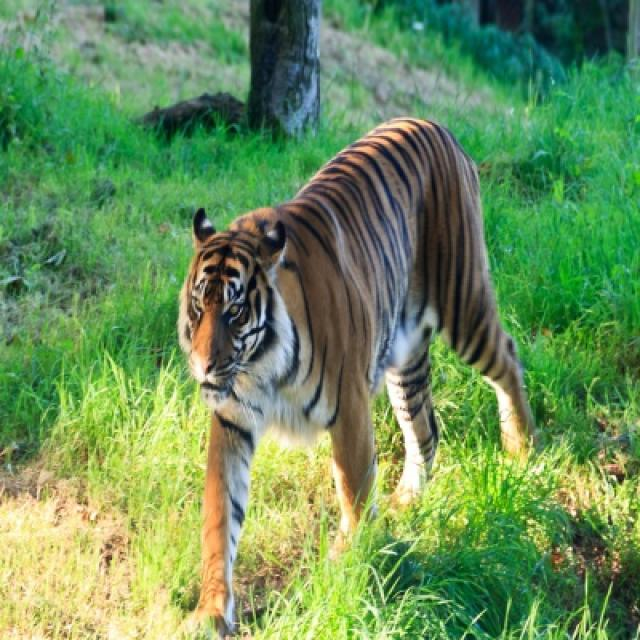Tiger: (175, 113, 534, 624)
